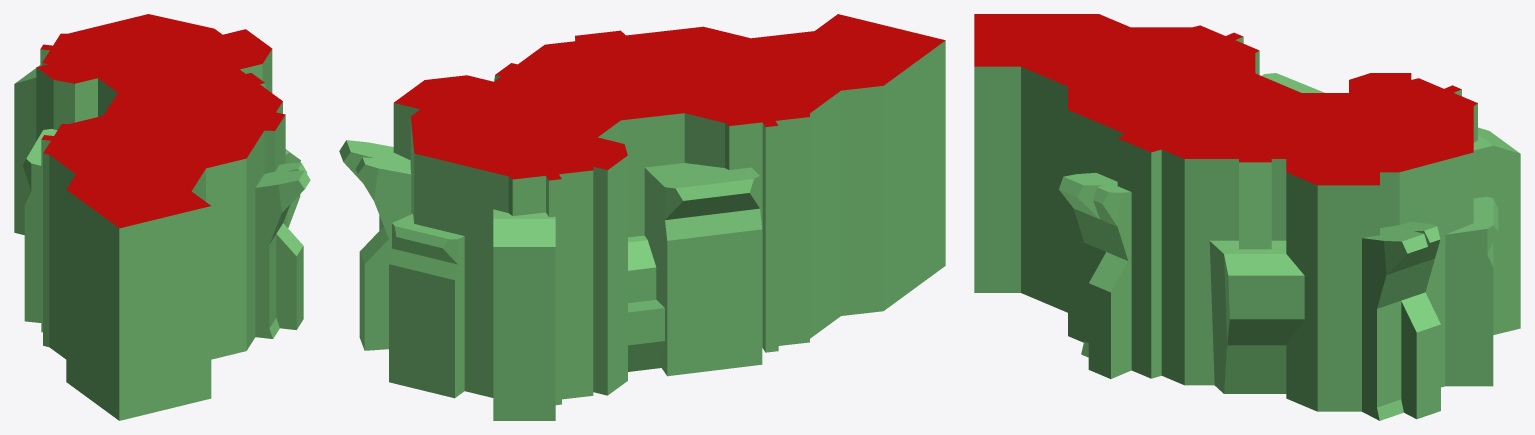
File: x_oo_ground_41_wall1_rmstrd.fbx
3 renders of one model, left to right at view 1: azimuth 30°, elevation 25°; view 2: azimuth 150°, elevation 25°; view 3: azimuth 270°, elevation 25°, orthographic. The views are drawn at different scales.
Visible parts, largest first — view 1: x_oo_ground_41_wall1_rmstrd1; view 2: x_oo_ground_41_wall1_rmstrd1; view 3: x_oo_ground_41_wall1_rmstrd1.
Part boxes in pixels (<box>): x_oo_ground_41_wall1_rmstrd1: <box>14,14,310,420</box>; x_oo_ground_41_wall1_rmstrd1: <box>339,14,945,420</box>; x_oo_ground_41_wall1_rmstrd1: <box>974,14,1520,420</box>.
Size of the model in its own units: 7.26 by 4 by 8.75.
